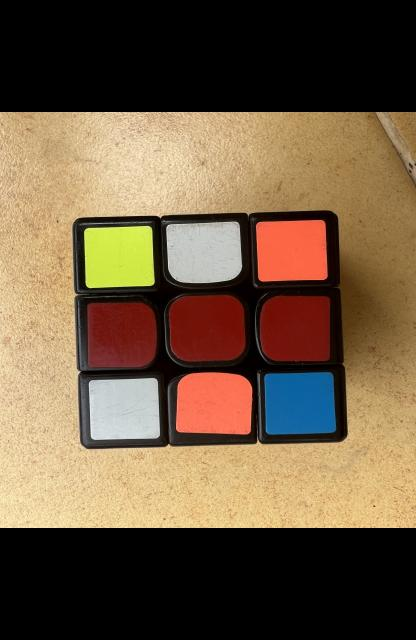Blue: (264, 372, 336, 435)
Orange: (176, 372, 252, 435), (256, 220, 327, 281)
Red: (168, 295, 244, 361), (259, 296, 329, 361), (87, 303, 156, 368)
White: (166, 221, 242, 283), (88, 378, 159, 440)
Yellow: (83, 226, 154, 289)
